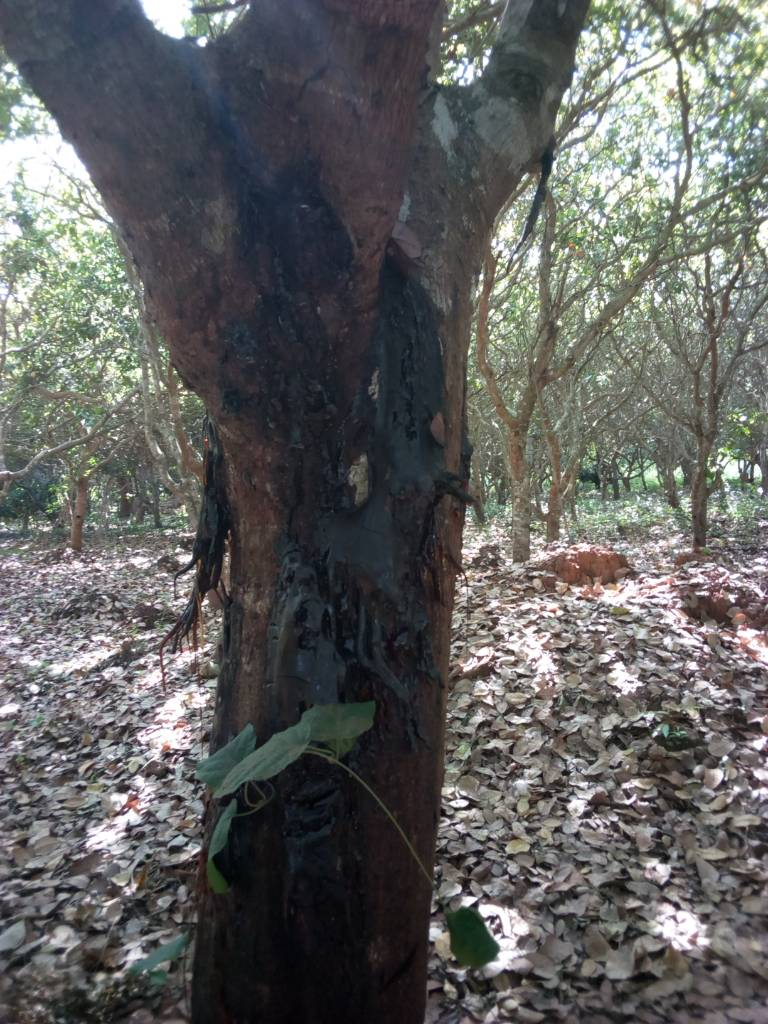Gommose: (229, 171, 357, 474)
